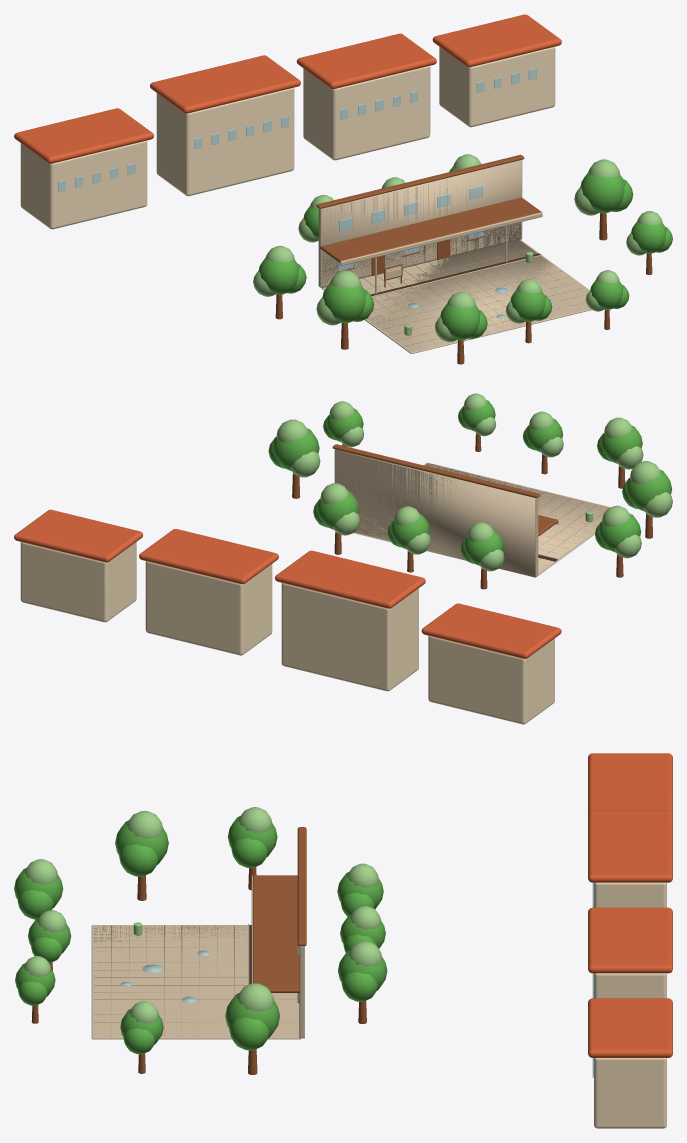
The model's file is rain_corridor.glb.
The picture shows the model from 3 angles, top to bottom: view 1: azimuth 30°, elevation 25°; view 2: azimuth 150°, elevation 25°; view 3: azimuth 270°, elevation 25°; orthographic projection. The views are drawn at different scales.
Visible parts, largest first — view 1: Block1.007, WallBack-colonly.004, Block2.007, Floor-colonly.004, Block0.007, Block3.006, Floor.004, WallBack.003, Block1Roof.007, Block2Roof.007, Block0Roof.007, Overhang (+10 smaller); view 2: Block1.007, WallBack-colonly.004, Block2.007, Block0.007, Block3.006, WallBack.003, Block1Roof.007, Block2Roof.007, Block0Roof.007, Block3Roof.006, Floor-colonly.004, WallBackCap.002 (+15 smaller); view 3: Floor.004, Block1Roof.007, Block2Roof.007, Overhang, Block3.006, Block3Roof.006, Block0Roof.007, Block1.007, Block2.007, WallBackCap.002, Tree7Leaf2.010, Tree8Leaf2.010 (+23 smaller).
Boxes of the visible parts, left/top/right/bottom form: Block1.007: left=156, top=87, right=294, bottom=196; WallBack-colonly.004: left=321, top=160, right=521, bottom=287; Block2.007: left=303, top=66, right=430, bottom=160; Floor-colonly.004: left=367, top=240, right=565, bottom=351; Block0.007: left=20, top=140, right=147, bottom=229; Block3.006: left=439, top=46, right=555, bottom=127; Floor.004: left=321, top=239, right=591, bottom=353; WallBack.003: left=318, top=160, right=522, bottom=287; Block1Roof.007: left=150, top=55, right=300, bottom=113; Block2Roof.007: left=296, top=33, right=436, bottom=89; Block0Roof.007: left=14, top=108, right=153, bottom=163; Overhang: left=320, top=197, right=541, bottom=262; Block1.007: left=281, top=583, right=418, bottom=691; WallBack-colonly.004: left=335, top=449, right=535, bottom=577; Block2.007: left=145, top=561, right=272, bottom=655; Block0.007: left=428, top=636, right=554, bottom=724; Block3.006: left=20, top=542, right=136, bottom=622; WallBack.003: left=334, top=449, right=538, bottom=576; Block1Roof.007: left=275, top=550, right=425, bottom=608; Block2Roof.007: left=139, top=529, right=278, bottom=584; Block0Roof.007: left=421, top=603, right=561, bottom=658; Block3Roof.006: left=14, top=509, right=142, bottom=562; Floor-colonly.004: left=425, top=463, right=609, bottom=572; WallBackCap.002: left=332, top=444, right=540, bottom=498; Floor.004: left=91, top=925, right=301, bottom=1039; Block1Roof.007: left=588, top=810, right=672, bottom=882; Block2Roof.007: left=588, top=907, right=672, bottom=973; Overhang: left=253, top=875, right=300, bottom=992; Block3.006: left=594, top=1058, right=666, bottom=1128; Block3Roof.006: left=588, top=998, right=672, bottom=1057; Block0Roof.007: left=588, top=753, right=672, bottom=814; Block1.007: left=594, top=882, right=666, bottom=907; Block2.007: left=594, top=973, right=666, bottom=998; WallBackCap.002: left=297, top=827, right=306, bottom=946; Tree7Leaf2.010: left=229, top=1017, right=269, bottom=1050; Tree8Leaf2.010: left=119, top=844, right=158, bottom=876.
Size of what is drawn, in the model's own units: 47.3 by 8.22 by 44.96.
